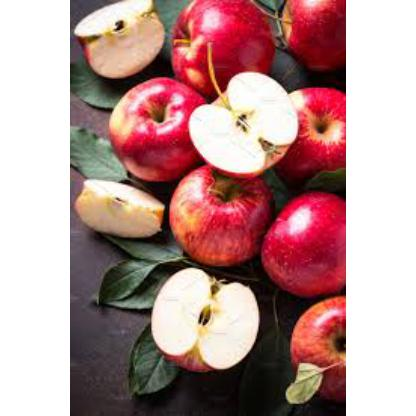apple: (173, 160, 274, 270), (104, 80, 202, 176), (169, 4, 273, 88), (264, 190, 344, 294)
damaged_apple: (150, 262, 260, 368), (193, 74, 297, 172), (72, 0, 168, 78), (72, 169, 164, 241)
